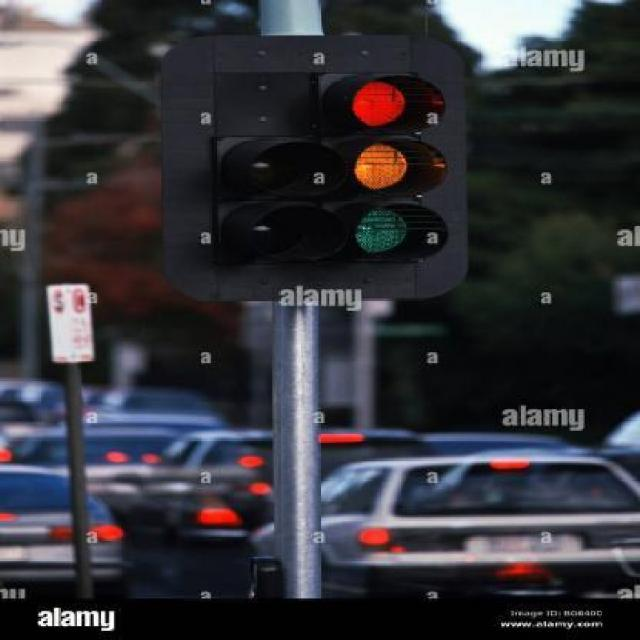vehicle: (296, 452, 640, 622), (0, 458, 123, 612)
